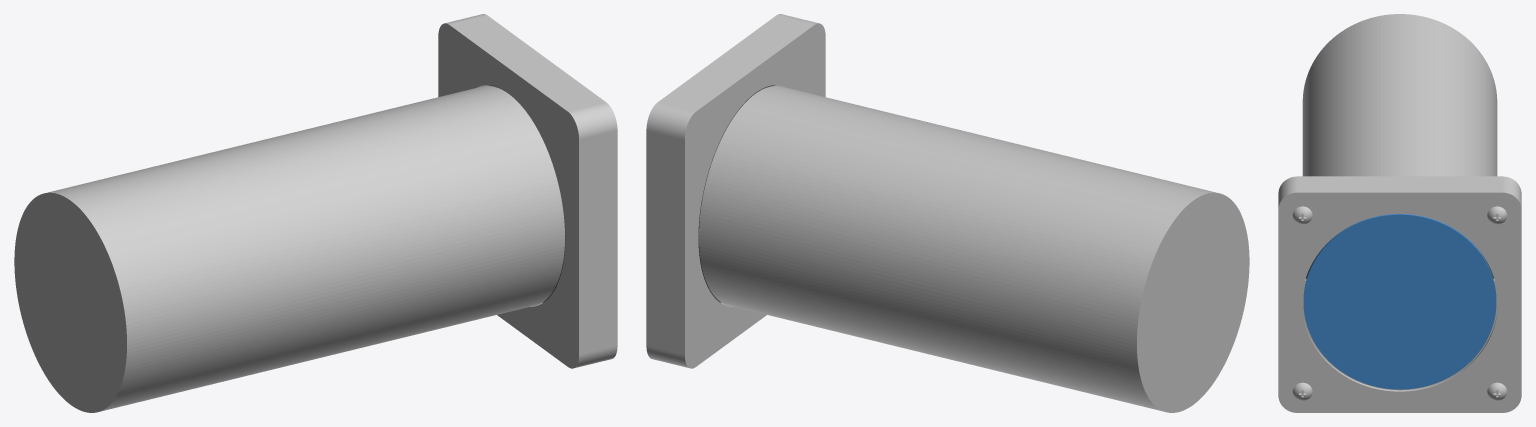
The model's file is Allen_MD-1A_Turn_Ind_01.dae.
3 renders of one model, left to right at view 1: azimuth 30°, elevation 25°; view 2: azimuth 150°, elevation 25°; view 3: azimuth 270°, elevation 25°, orthographic. The views are drawn at different scales.
Visible parts, largest first — view 1: node0, node12; view 2: node0, node12; view 3: node12, node0, node1, node10, node13.
Part boxes in pixels (x1,y1,x2,y2): node0: (14,86,564,412); node12: (438,14,617,368); node0: (699,86,1249,412); node12: (646,14,825,368); node12: (1278,176,1521,412); node0: (1302,14,1497,176); node1: (1303,214,1496,389); node10: (1292,206,1507,400); node13: (1302,280,1497,390).
Bounding box in the file's own units: 0.126 × 0.0635 × 0.0635.
